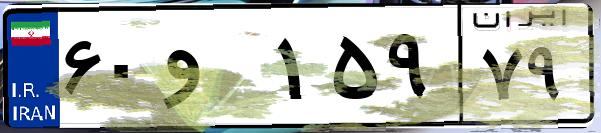0: (110, 28, 158, 98)
1: (270, 28, 330, 110)
5: (330, 28, 385, 110)
6: (57, 26, 110, 100)
7: (475, 38, 525, 113)
9: (385, 28, 445, 110), (525, 38, 570, 115)
و: (158, 20, 270, 120)
